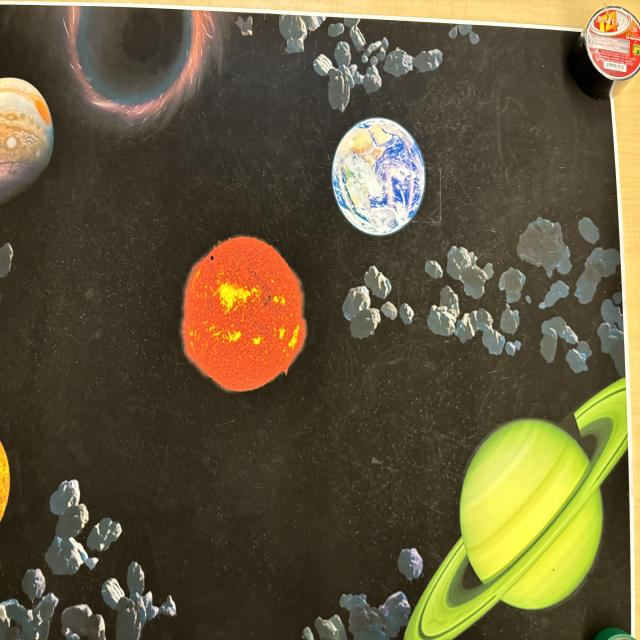Asteroids: (348, 226, 618, 354), (0, 520, 163, 639), (277, 10, 474, 106), (307, 554, 412, 636)
Black Hole: (65, 0, 211, 112)
Earth: (333, 115, 426, 236)
Jupiter: (0, 72, 55, 202)
Saturn: (409, 372, 630, 640)
Sun: (180, 234, 308, 394)
